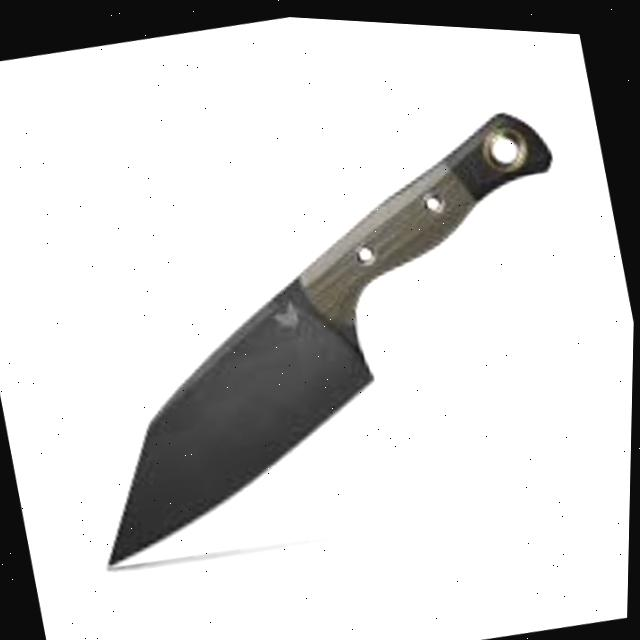knife: (25, 71, 622, 590)
